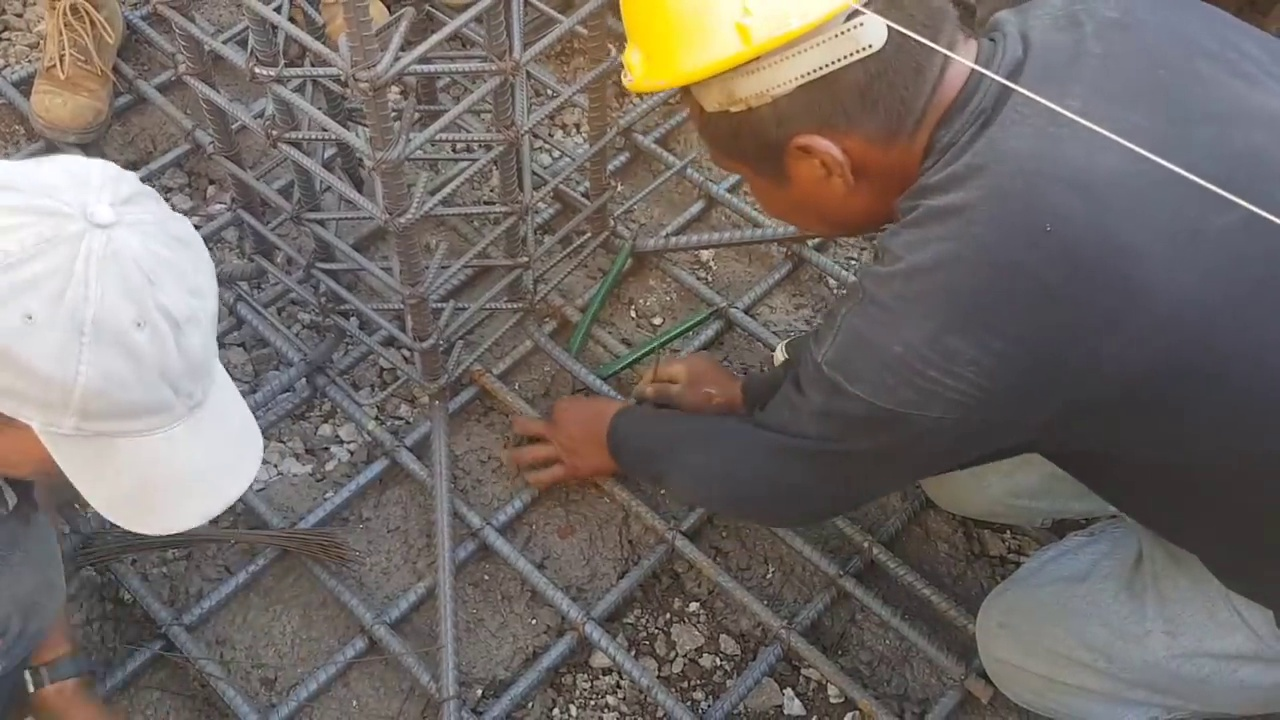helmet: (618, 0, 870, 93)
helmet-off: (0, 152, 265, 538)
helmet-on: (616, 0, 992, 238)
person: (514, 3, 1280, 717), (0, 150, 265, 717)
